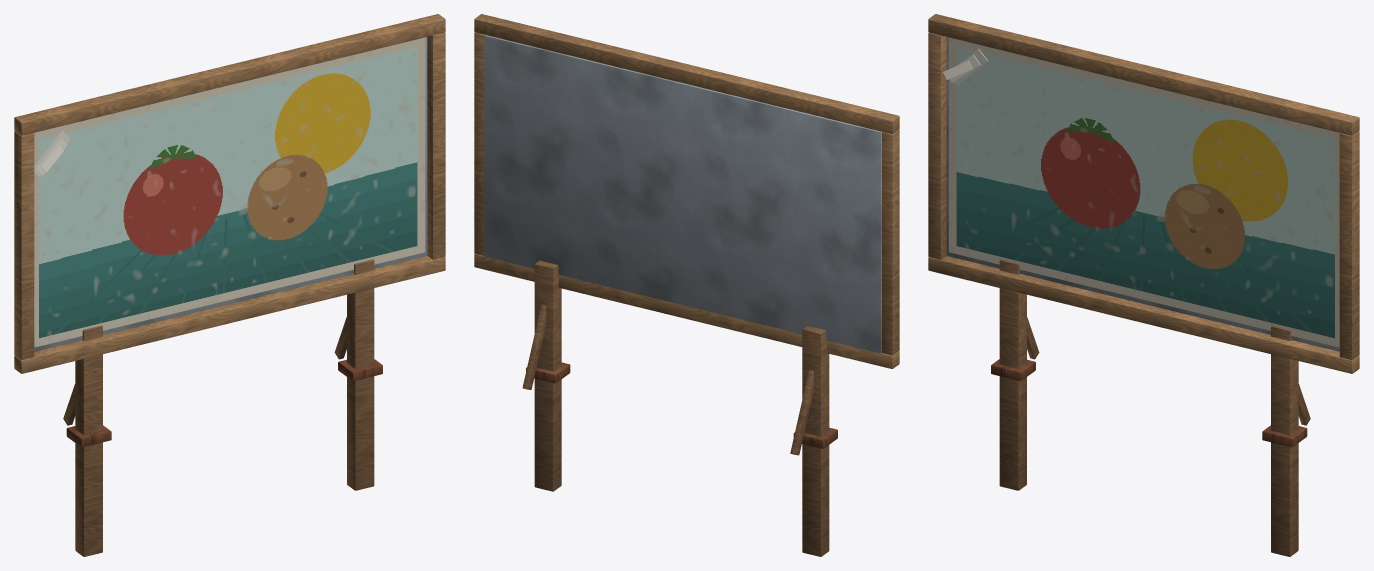
The model's file is billboard.glb.
3 renders of one model, left to right at view 1: azimuth 30°, elevation 25°; view 2: azimuth 150°, elevation 25°; view 3: azimuth 330°, elevation 25°, orthographic.
Parts seen in each view (by area): view 1: BillboardMesh; view 2: BillboardMesh; view 3: BillboardMesh.
Part boxes in pixels (left/top/right/bottom): BillboardMesh: left=14, top=14, right=445, bottom=556; BillboardMesh: left=474, top=14, right=899, bottom=556; BillboardMesh: left=928, top=14, right=1359, bottom=556.
Bounding box in the file's own units: 1.94 × 1.98 × 0.2782.
6 materials, 5 textured.
